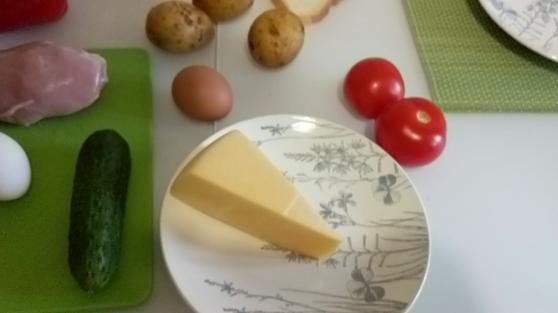cheese: (170, 126, 342, 263)
chicken_fillet: (3, 37, 113, 126)
cucumber: (71, 124, 131, 291)
egg: (168, 66, 236, 122), (1, 132, 35, 206)
potato: (142, 2, 224, 55), (247, 6, 307, 73)
tomato: (375, 92, 449, 165), (345, 52, 407, 115)
